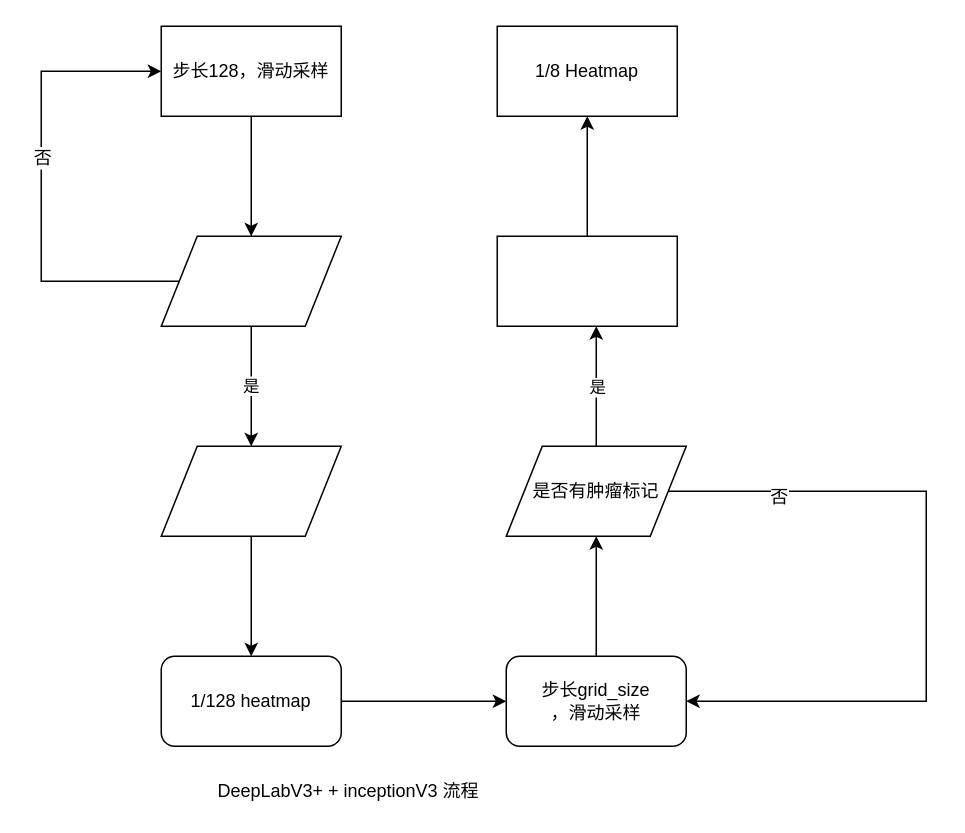
The diagram is 965 pixels wide and 833 high, and some of its shapes have lost their labels. Here are the shapes that lost their labels. From the top down, the centre of each, then its label:
At point (250, 280): "是否包含组织区域".
At point (586, 280): "DeepLab进行分割".
At point (250, 490): "inceptionV3预测".
